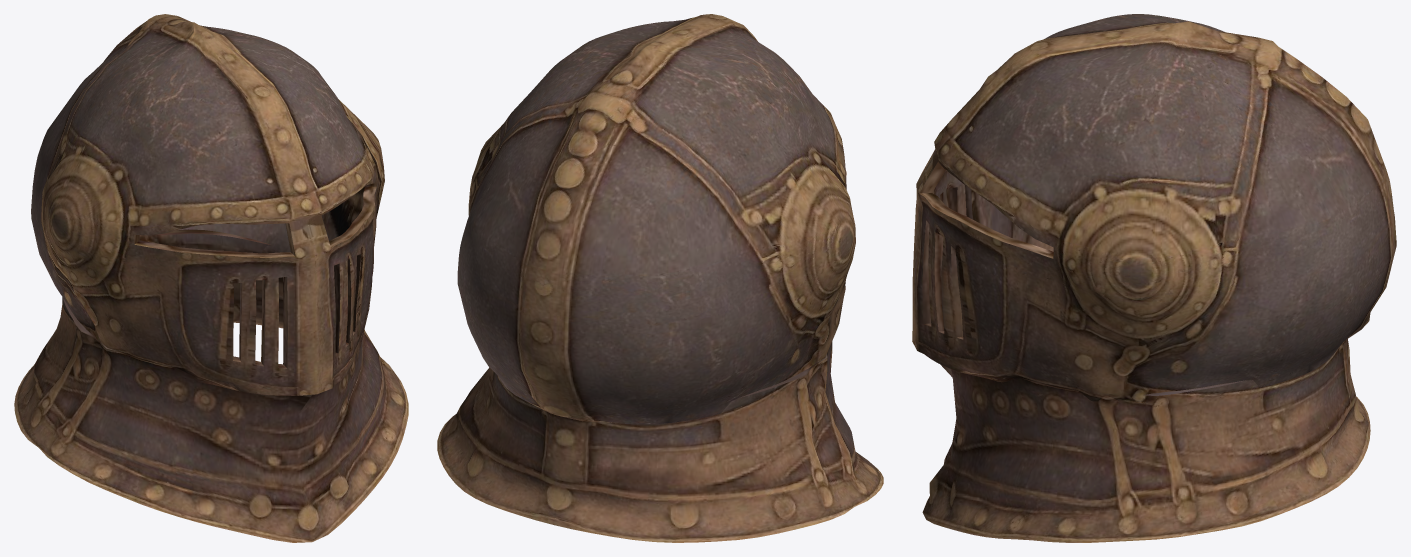
3 views of the same model, side by side, from view 1: azimuth 30°, elevation 25°; view 2: azimuth 150°, elevation 25°; view 3: azimuth 270°, elevation 25° (orthographic). The views are drawn at different scales.
Visible parts, largest first — view 1: RoundedBrassHelmet_Baked; view 2: RoundedBrassHelmet_Baked; view 3: RoundedBrassHelmet_Baked.
Boxes of the visible parts, x1,y1,x2,y2 form: RoundedBrassHelmet_Baked: (14,14,408,542); RoundedBrassHelmet_Baked: (437,14,883,542); RoundedBrassHelmet_Baked: (912,14,1396,542).
Size of the model in its own units: 0.2572 by 0.307 by 0.2747.
Materials: 1 (1 with a texture image).
